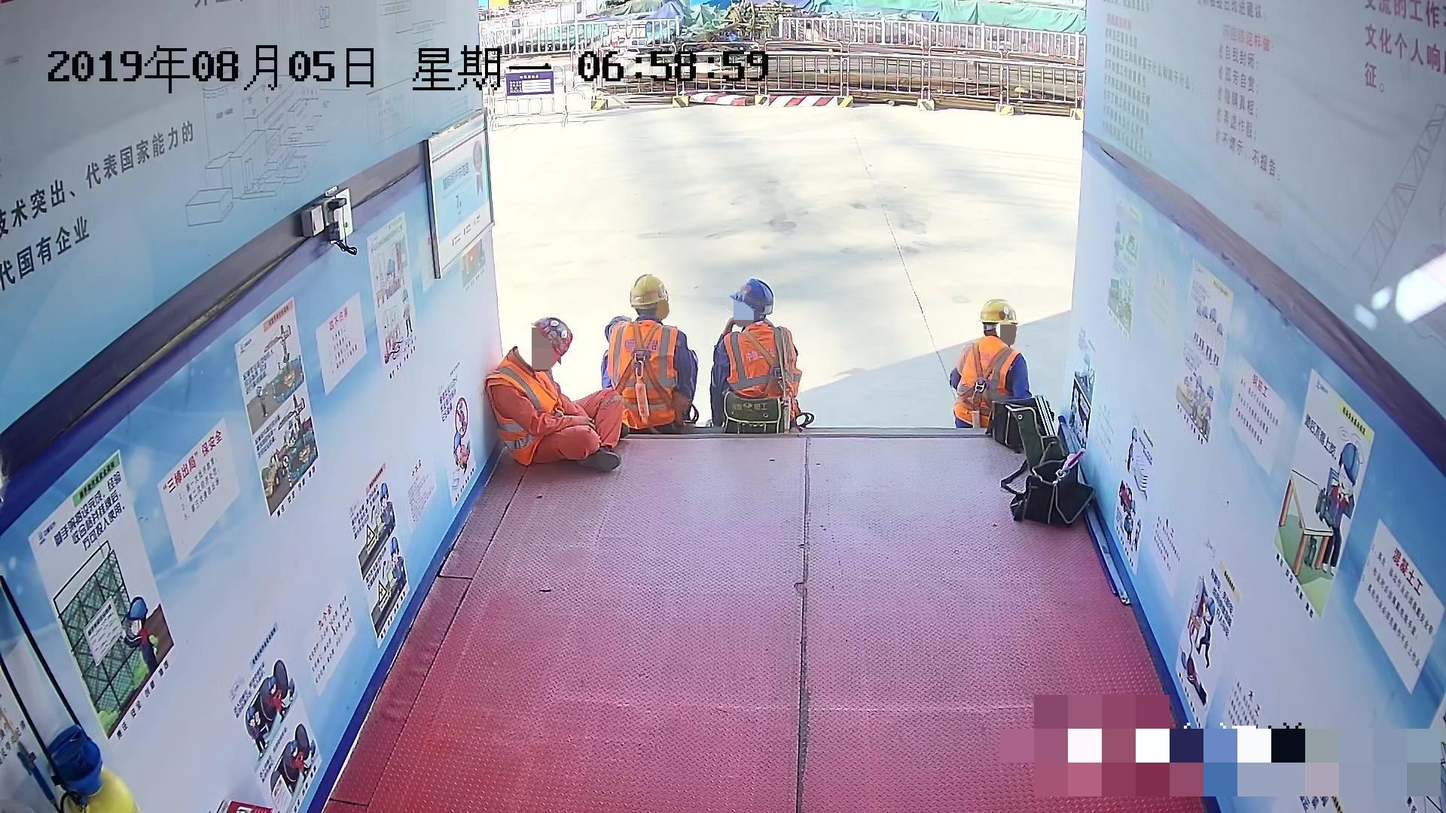hat: (523, 314, 575, 376), (728, 276, 776, 327), (979, 296, 1018, 340), (629, 274, 670, 314)
person: (485, 309, 627, 463), (699, 279, 814, 433), (601, 276, 704, 440), (932, 286, 1038, 431)
